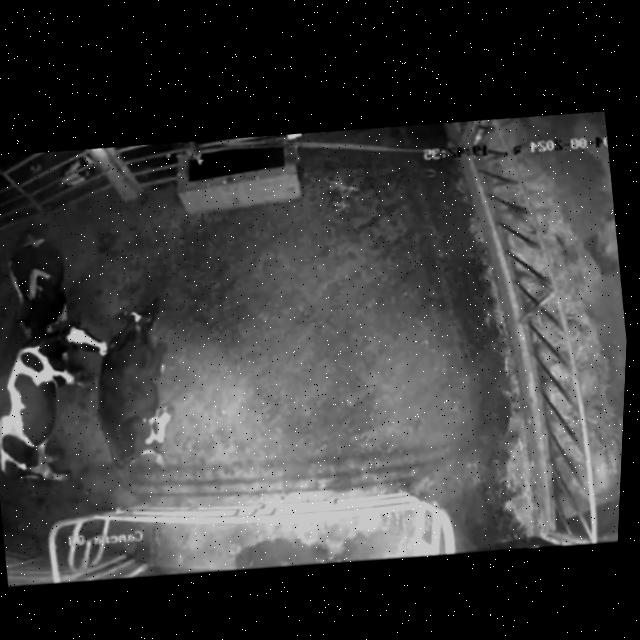lay: (66, 280, 216, 501), (0, 303, 137, 510), (0, 198, 96, 344)
